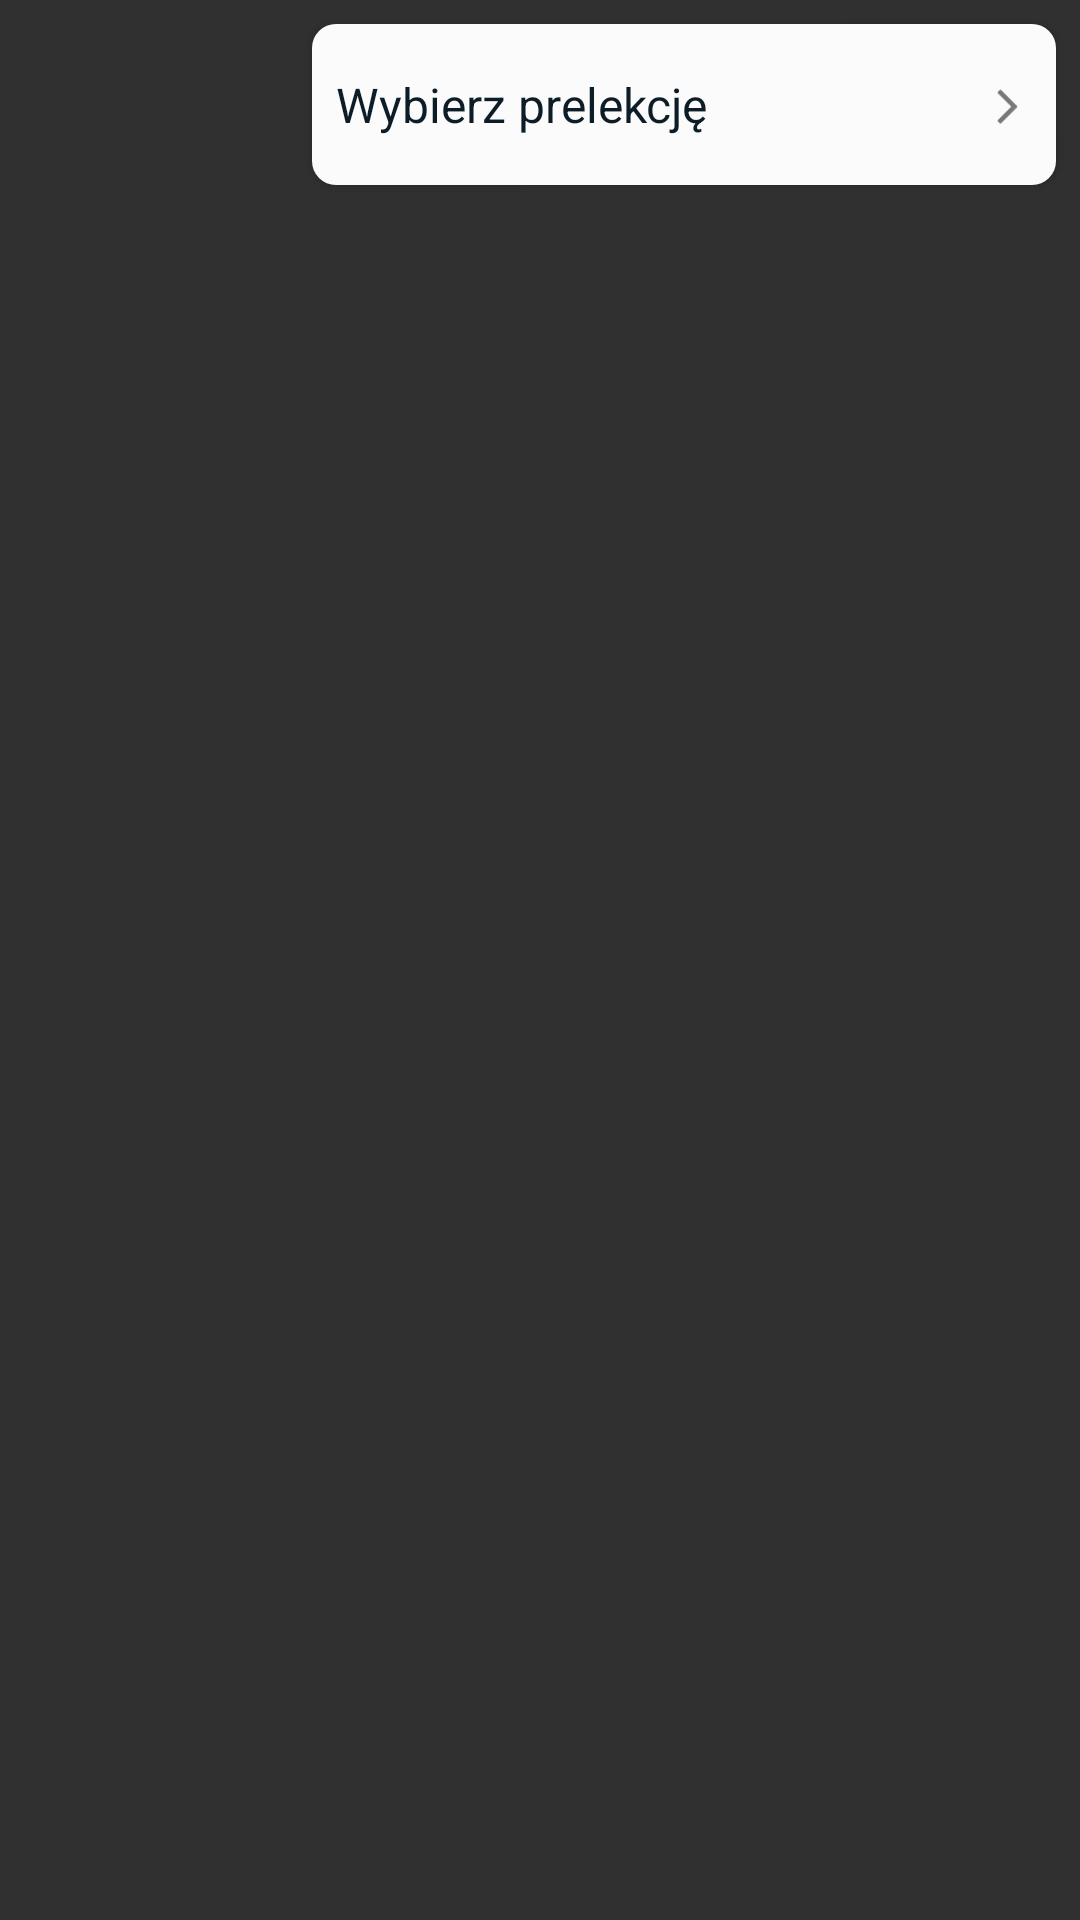

Where to tap for icons on this 1080px x 1920px app screen, as (x=x, y=y):
angle right: (x=1007, y=106)
